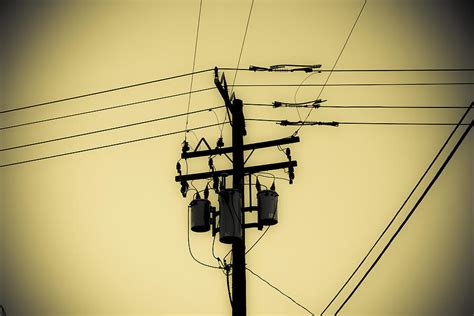pole: (151, 57, 357, 316)
